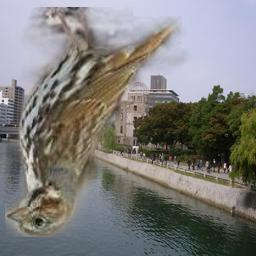Sparrow: (5, 7, 196, 237)
